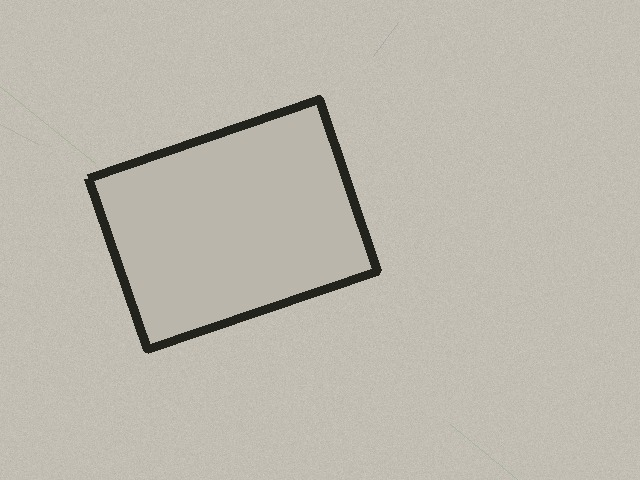parking_area: (88, 99, 377, 349)
